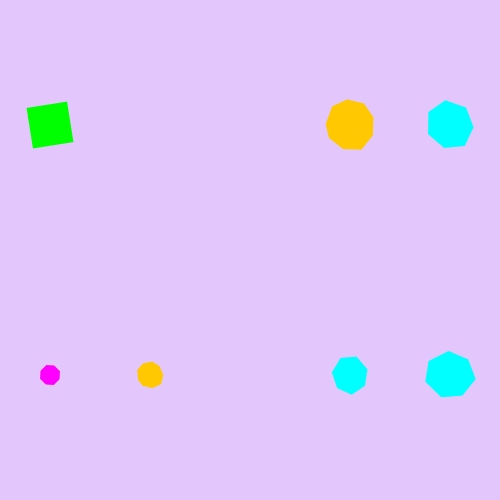heptagon: (422, 348, 478, 402), (422, 99, 478, 152), (328, 354, 373, 397)
nonagon: (321, 97, 379, 153), (133, 358, 168, 392)
octagon: (35, 360, 65, 390)
quadrilateral: (18, 93, 82, 157)
